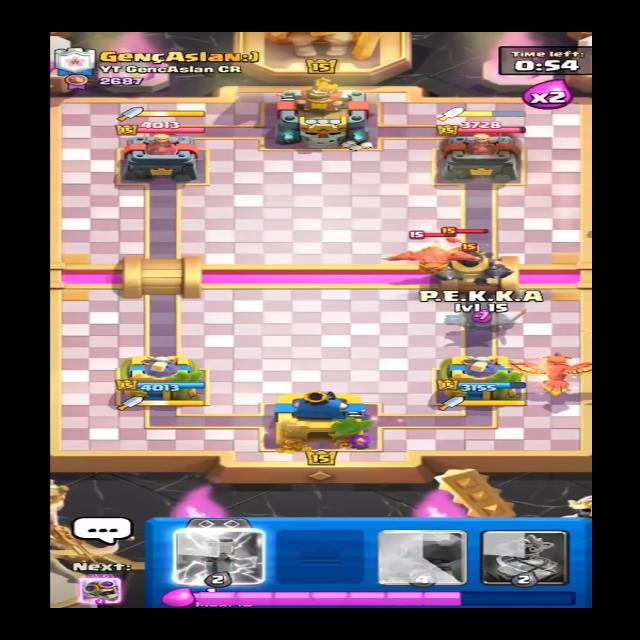Megaknight: (418, 245, 514, 286)
Pheonix: (374, 230, 496, 278)
